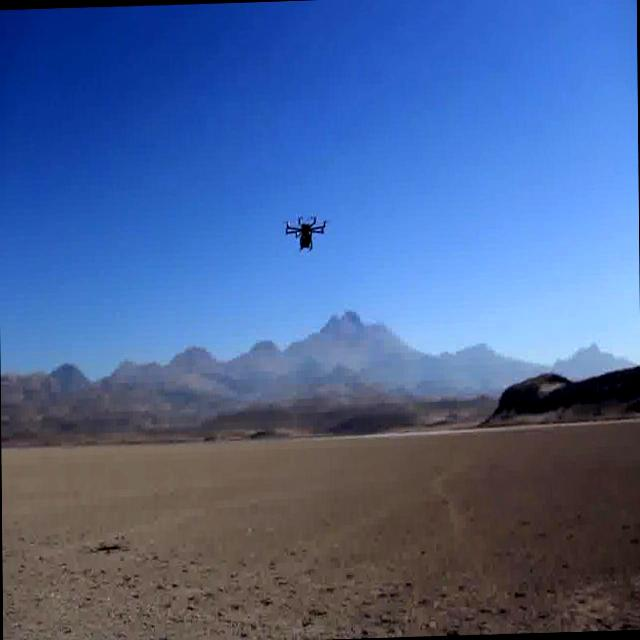drone: (284, 211, 328, 257)
